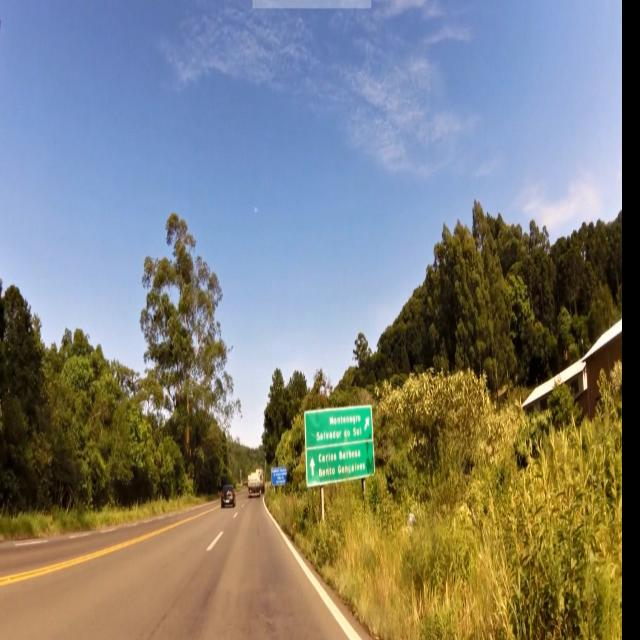I-4: (305, 410, 383, 482)
